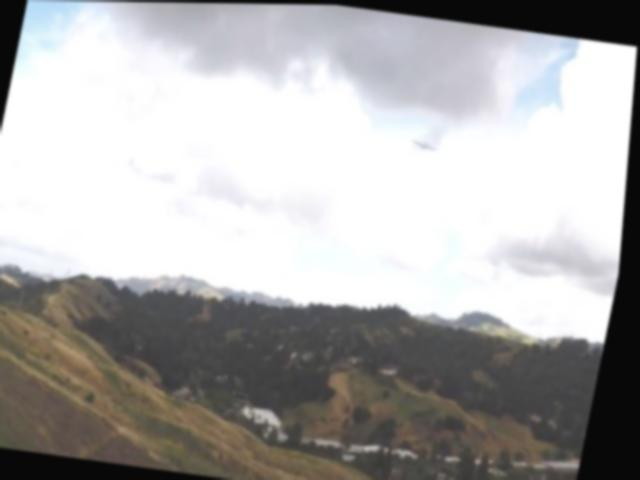iha: (405, 131, 445, 156)
